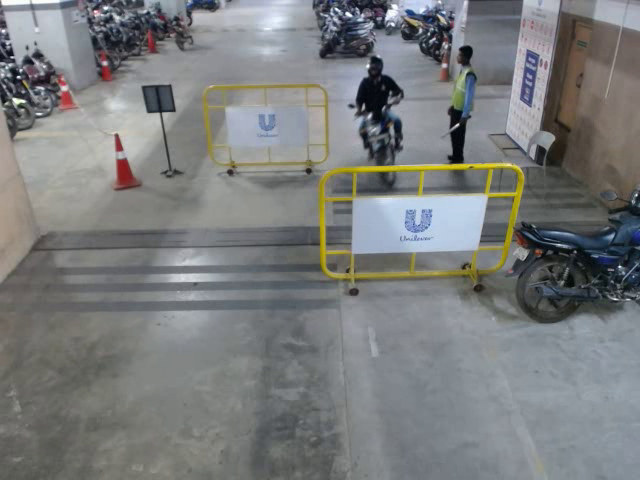with_helmet: (366, 55, 384, 83)
